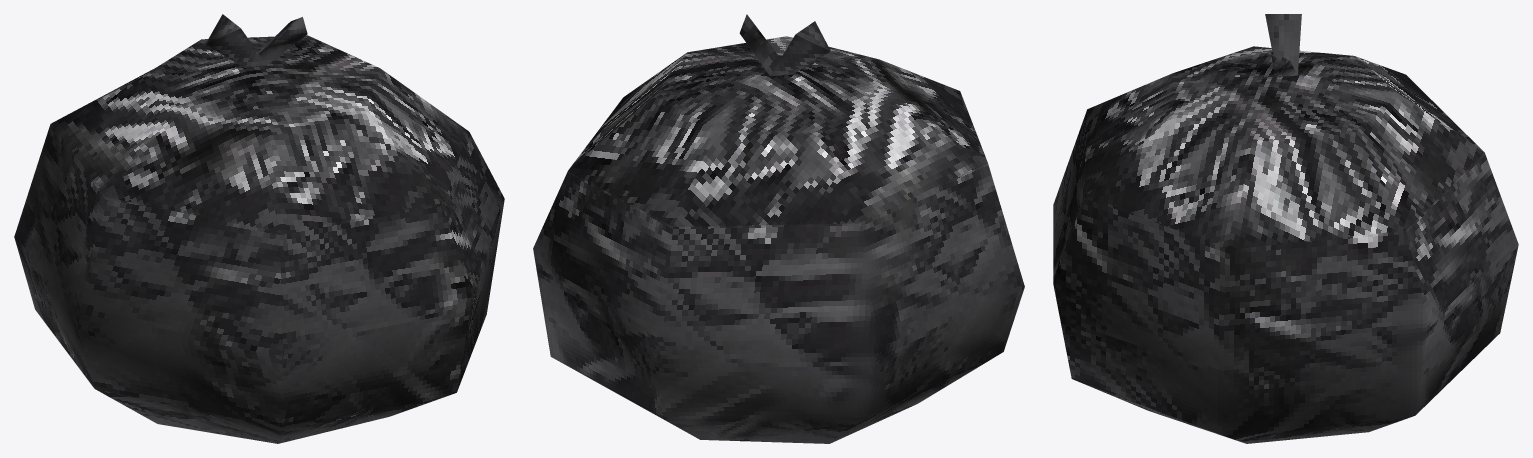
Rendered from garbage_bag.glb.
The picture shows the model from 3 angles, left to right: view 1: azimuth 30°, elevation 25°; view 2: azimuth 150°, elevation 25°; view 3: azimuth 270°, elevation 25°; orthographic projection. The views are drawn at different scales.
Parts seen in each view (by area): view 1: Garbage_bag; view 2: Garbage_bag; view 3: Garbage_bag.
Part boxes in pixels (box(x1,y1,x2,y2)): Garbage_bag: box(14, 14, 504, 443); Garbage_bag: box(533, 14, 1024, 443); Garbage_bag: box(1053, 14, 1518, 443).
Bounding box in the file's own units: 0.5704 × 0.4688 × 0.557.
Materials: 1 (1 with a texture image).
